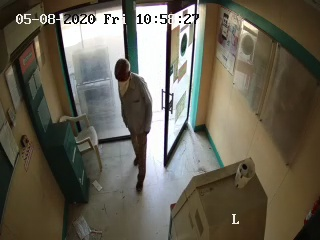open: (122, 2, 196, 173)
